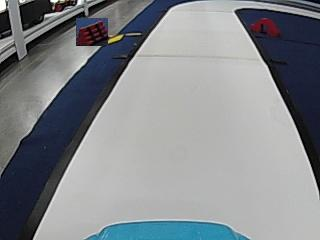bridge: (252, 17, 280, 37)
